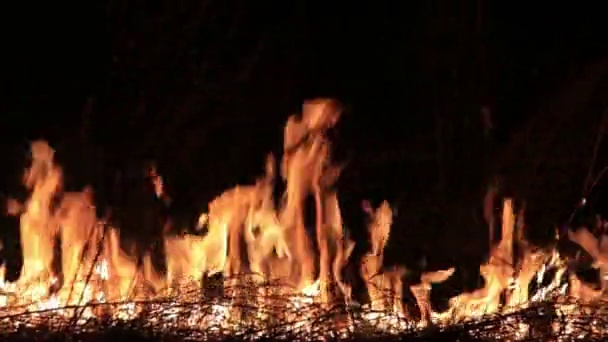fire: (163, 101, 356, 332), (1, 142, 153, 321), (449, 202, 565, 324), (361, 201, 408, 331), (567, 228, 608, 338), (412, 266, 454, 329)
